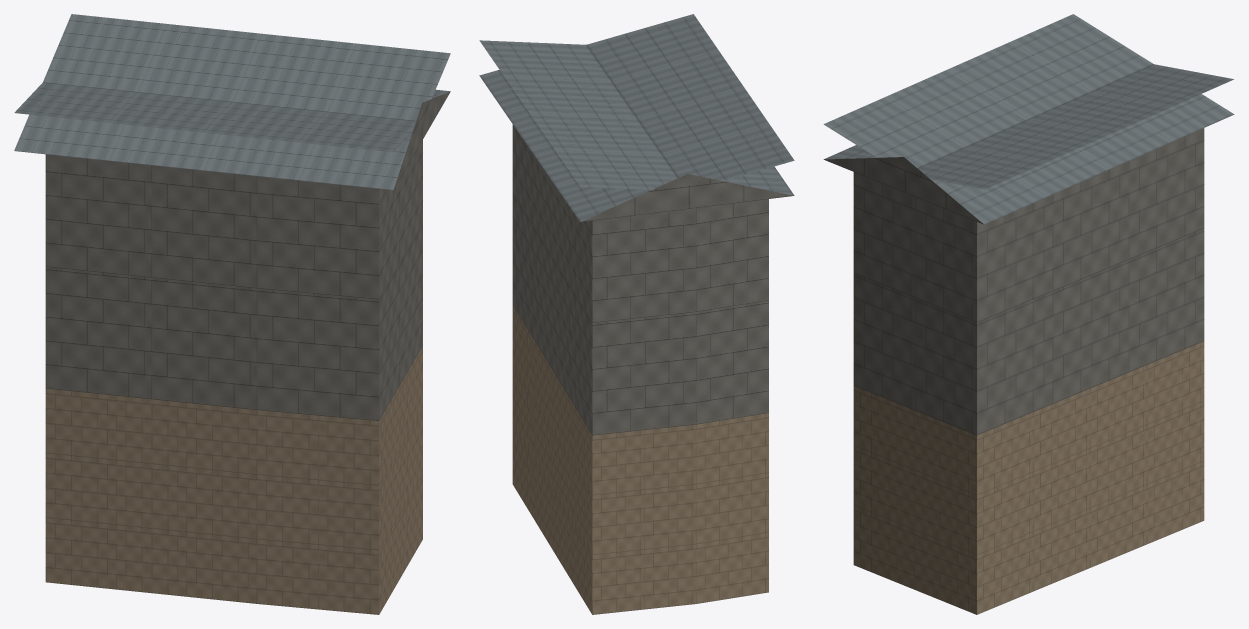
File: bld_c-10_41_514.gltf
The picture shows the model from 3 angles, left to right: view 1: azimuth 30°, elevation 25°; view 2: azimuth 150°, elevation 25°; view 3: azimuth 270°, elevation 25°; orthographic projection. The views are drawn at different scales.
Visible parts, largest first — view 1: bld_c-10_41_514; view 2: bld_c-10_41_514; view 3: bld_c-10_41_514.
Part boxes in pixels (box(x1,y1,x2,y2)): bld_c-10_41_514: box(14, 14, 450, 614); bld_c-10_41_514: box(479, 14, 794, 614); bld_c-10_41_514: box(823, 14, 1234, 614).
Bounding box in the file's own units: 10.7 × 12.5 × 10.6.
4 materials, 4 textured.
